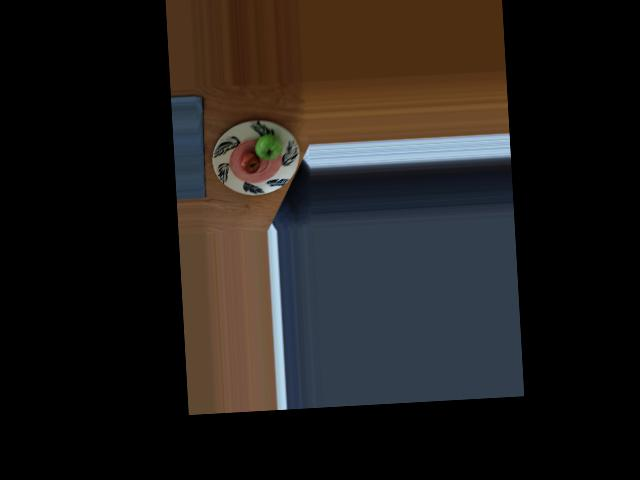apple: (254, 130, 284, 160)
